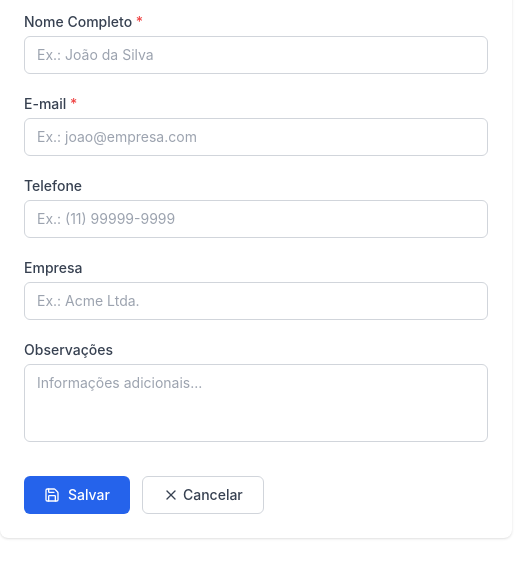
Scenario: ContatoForm — validação no submit › exibe erro de nome obrigatório quando submit sem nome
# Preenche apenas email — nome fica vazio
In the field labelled "E-mail *": point(256, 137) [24, 118, 488, 156], type "x@x.com"
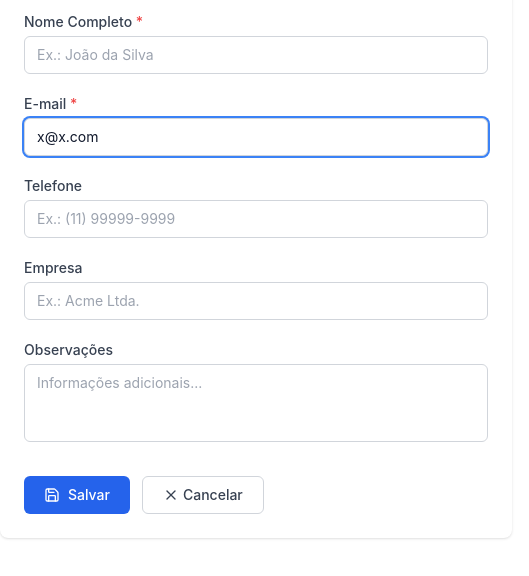
Click the button "Salvar": point(77, 495) [24, 476, 130, 514]
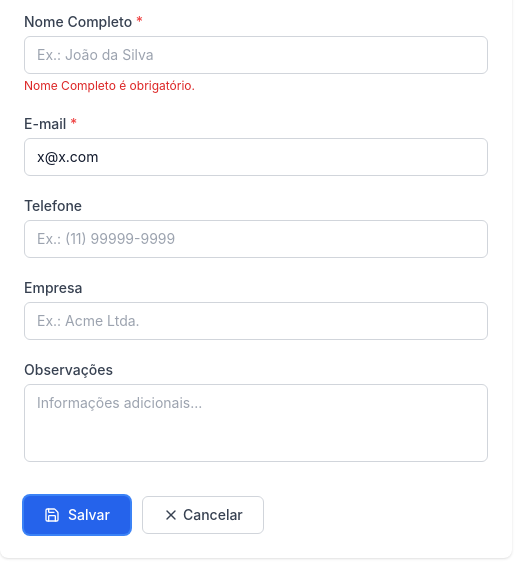
expect the text "Nome Completo é obrigatório." is shown: met, box [24, 78, 195, 93]
